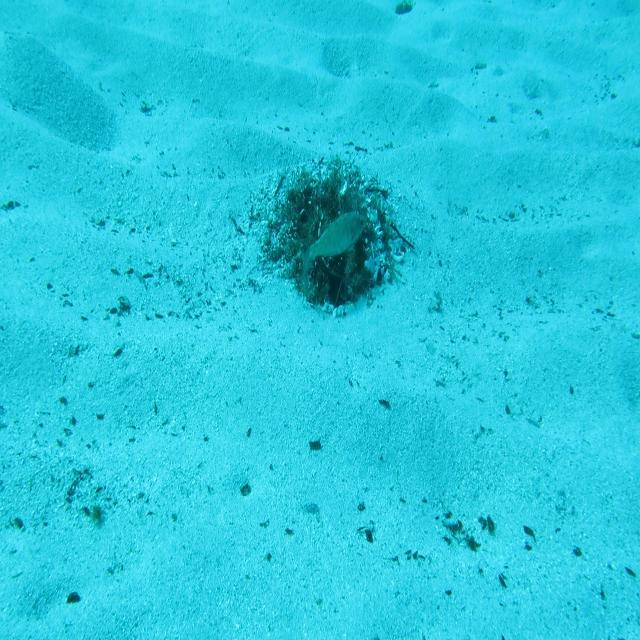MAN: (295, 207, 376, 276)
nest: (262, 158, 402, 317)
